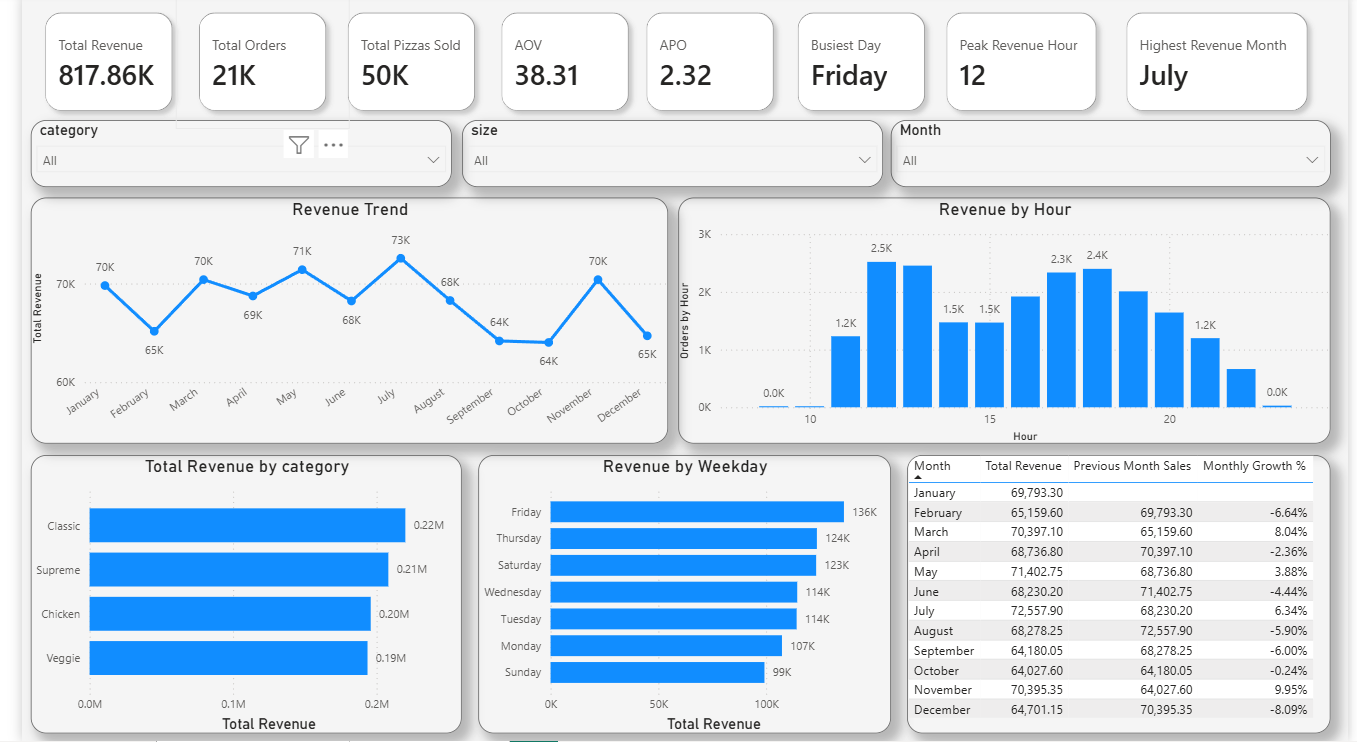

This screenshot's page, from the dashboard's own definition file:
{"tool":"powerbi","page":{"name":"Executive Dashboard","canvas":[1280,720],"ordinal":0},"visuals":[{"type":"lineChart","title":"Revenue Trend","fields":{"Category":["orders.date.Variation.Date Hierarchy.Month"],"Y":["order_details.Total Revenue"]},"box":[8.4,195.4,615.3,237.7],"z":1000},{"type":"barChart","fields":{"Category":["pizza_types.category"],"Y":["order_details.Total Revenue"]},"box":[8.4,444,416.2,269],"z":2000},{"type":"columnChart","title":"Revenue by Hour","fields":{"Category":["orders.HOUR"],"Y":["orders.Total Orders"]},"box":[633.4,195.4,629.8,237.7],"z":4000},{"type":"slicer","fields":{"Values":["pizza_types.category"]},"box":[8.4,120.6,406.6,65.1],"z":5000},{"type":"slicer","fields":{"Values":["orders.Month"]},"box":[838.5,120.6,424.7,65.1],"z":6000},{"type":"clusteredBarChart","title":"Revenue by Weekday","fields":{"Category":["orders.Weekday"],"Y":["order_details.Total Revenue"]},"box":[440.4,444,398.1,269],"z":7000},{"type":"slicer","fields":{"Values":["pizzas.size"]},"box":[424.7,120.6,406.6,65.1],"z":8000},{"type":"tableEx","fields":{"Values":["orders.date.Variation.Date Hierarchy.Month","order_details.Total Revenue","orders.Previous Month Sales","orders.Monthly Growth %"]},"box":[854.2,444,409,269],"z":9000},{"type":"cardVisual","title":"T","fields":{"Data":["order_details.total_revenue"]},"box":[0,0,167.7,129.1],"z":9001},{"type":"cardVisual","title":"T","fields":{"Data":["orders.total_order"]},"box":[148.4,0,167.7,129.1],"z":9002},{"type":"cardVisual","title":"T","fields":{"Data":["order_details.Total Pizzas Sold"]},"box":[292,0,167.7,129.1],"z":9003},{"type":"cardVisual","title":"T","fields":{"Data":["order_details.Average Order Value"]},"box":[440.4,0,167.7,129.1],"z":9004},{"type":"cardVisual","title":"T","fields":{"Data":["order_details.Average Pizzas Per Order"]},"box":[580.3,0,167.7,129.1],"z":9005},{"type":"cardVisual","title":"T","fields":{"Data":["orders.Busiest Day"]},"box":[726.3,0,167.7,129.1],"z":9006},{"type":"cardVisual","title":"T","fields":{"Data":["orders.Peak Revenue Hour"]},"box":[869.8,0,189.4,129.1],"z":9007},{"type":"cardVisual","title":"T","fields":{"Data":["orders.Highest Revenue Month"]},"box":[1043.6,0,219.6,129.1],"z":9008}]}

Visuals, with their boxes in screenshot pixels (x1, y1, x2, y2), scaled from the page's 1280x720 canvas onto the 1357x742 screenshot:
"Revenue Trend" lineChart: bbox=(9, 201, 661, 446)
barChart - pizza_types.category x order_details.Total Revenue: bbox=(9, 458, 450, 735)
"Revenue by Hour" columnChart: bbox=(672, 201, 1339, 446)
slicer - pizza_types.category: bbox=(9, 124, 440, 191)
slicer - orders.Month: bbox=(889, 124, 1339, 191)
"Revenue by Weekday" clusteredBarChart: bbox=(467, 458, 889, 735)
slicer - pizzas.size: bbox=(450, 124, 881, 191)
tableEx - orders.date.Variation.Date Hierarchy.Month x order_details.Total Revenue: bbox=(906, 458, 1339, 735)
"T" cardVisual: bbox=(0, 0, 178, 133)
"T" cardVisual: bbox=(157, 0, 335, 133)
"T" cardVisual: bbox=(310, 0, 487, 133)
"T" cardVisual: bbox=(467, 0, 645, 133)
"T" cardVisual: bbox=(615, 0, 793, 133)
"T" cardVisual: bbox=(770, 0, 948, 133)
"T" cardVisual: bbox=(922, 0, 1123, 133)
"T" cardVisual: bbox=(1106, 0, 1339, 133)
